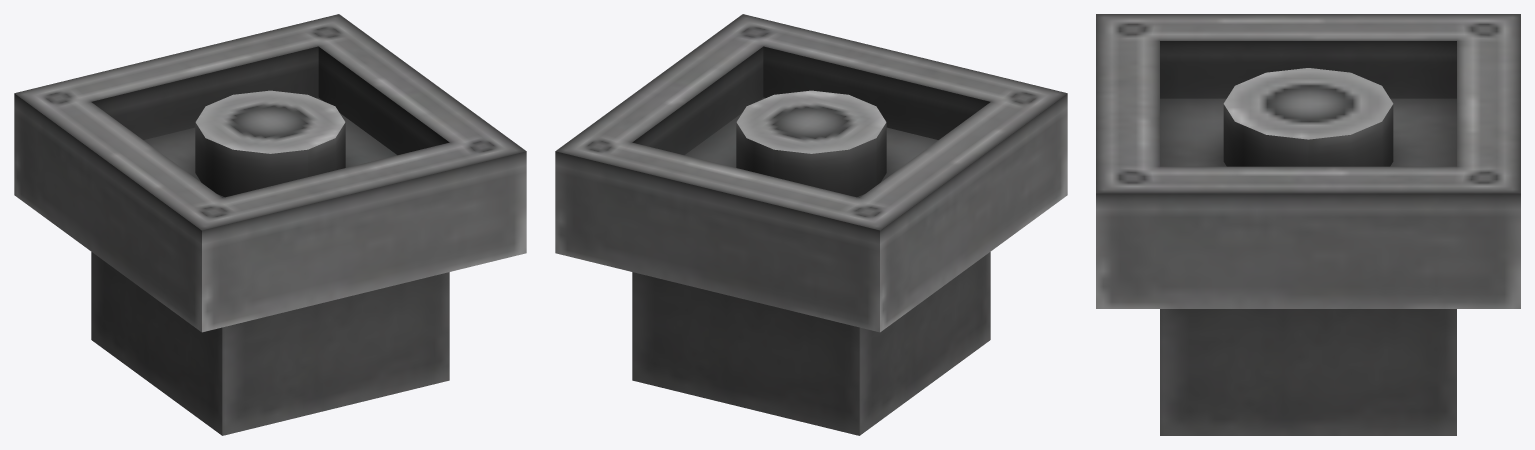
The model's file is sofora_mount_srf_1.obj.
The picture shows the model from 3 angles, left to right: view 1: azimuth 30°, elevation 25°; view 2: azimuth 150°, elevation 25°; view 3: azimuth 270°, elevation 25°; orthographic projection. The views are drawn at different scales.
Parts seen in each view (by area): view 1: mesh1; view 2: mesh1; view 3: mesh1.
Part boxes in pixels (<box>): mesh1: <box>14,14,526,435</box>; mesh1: <box>555,14,1067,435</box>; mesh1: <box>1096,14,1520,435</box>.
Bounding box in the file's own units: 0.25 × 0.175 × 0.25.
1 material, 1 textured.
